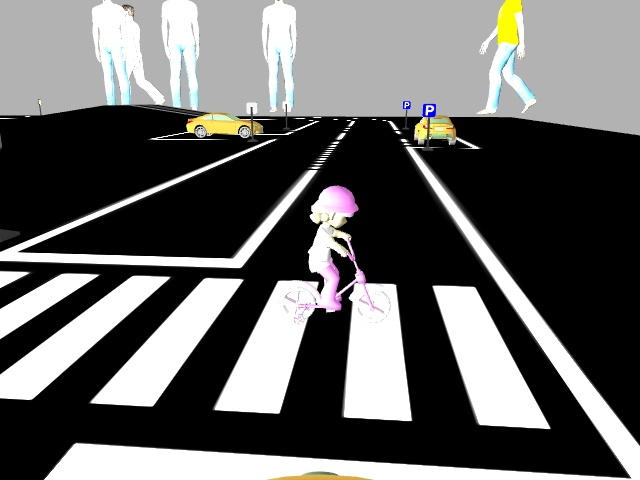Parking: (419, 101, 439, 117), (401, 98, 412, 110)
Pedestrian: (259, 184, 401, 322)
